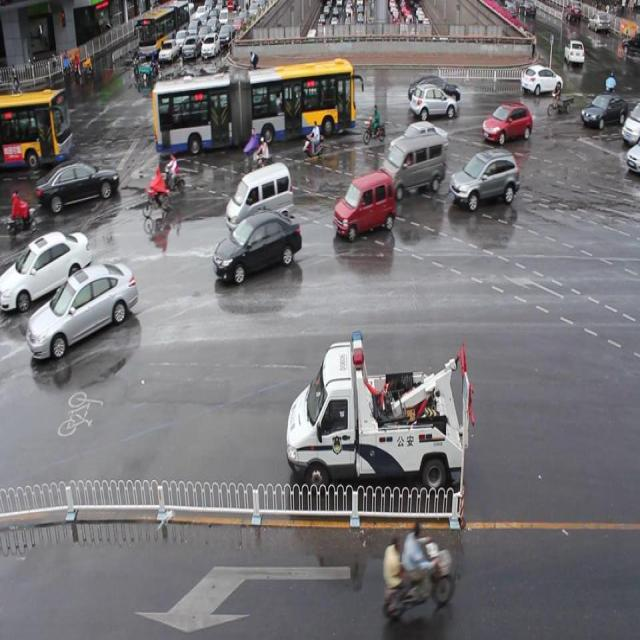bus: (286, 328, 474, 494)
car: (28, 262, 137, 354), (1, 228, 90, 308), (213, 211, 301, 280), (450, 148, 520, 210), (332, 170, 396, 237), (36, 159, 120, 207), (389, 120, 448, 158), (481, 100, 532, 142), (411, 80, 457, 121), (580, 90, 628, 129), (407, 74, 460, 105), (300, 67, 346, 101), (520, 61, 562, 95)
truck: (226, 163, 295, 229), (380, 134, 446, 194)
van: (153, 59, 355, 147)
